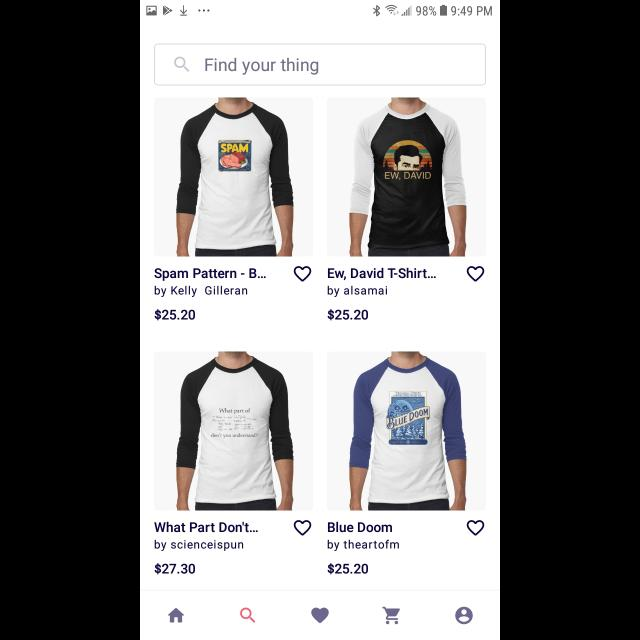icon: (382, 606, 400, 624), (455, 607, 473, 625), (311, 607, 329, 623), (466, 520, 484, 536), (294, 520, 312, 536), (467, 266, 485, 282), (294, 266, 312, 282), (174, 56, 190, 72), (168, 608, 185, 622), (240, 608, 256, 622)
image: (155, 352, 313, 512), (327, 352, 485, 511), (327, 98, 485, 256), (155, 98, 313, 256)
input: (154, 44, 486, 86)
text: (154, 267, 266, 297), (328, 267, 436, 297), (156, 521, 258, 551), (327, 521, 399, 551), (205, 57, 319, 75), (328, 562, 368, 574), (328, 309, 368, 321), (155, 309, 195, 321), (155, 564, 195, 574)
uppertaskbar: (140, 1, 500, 17)
